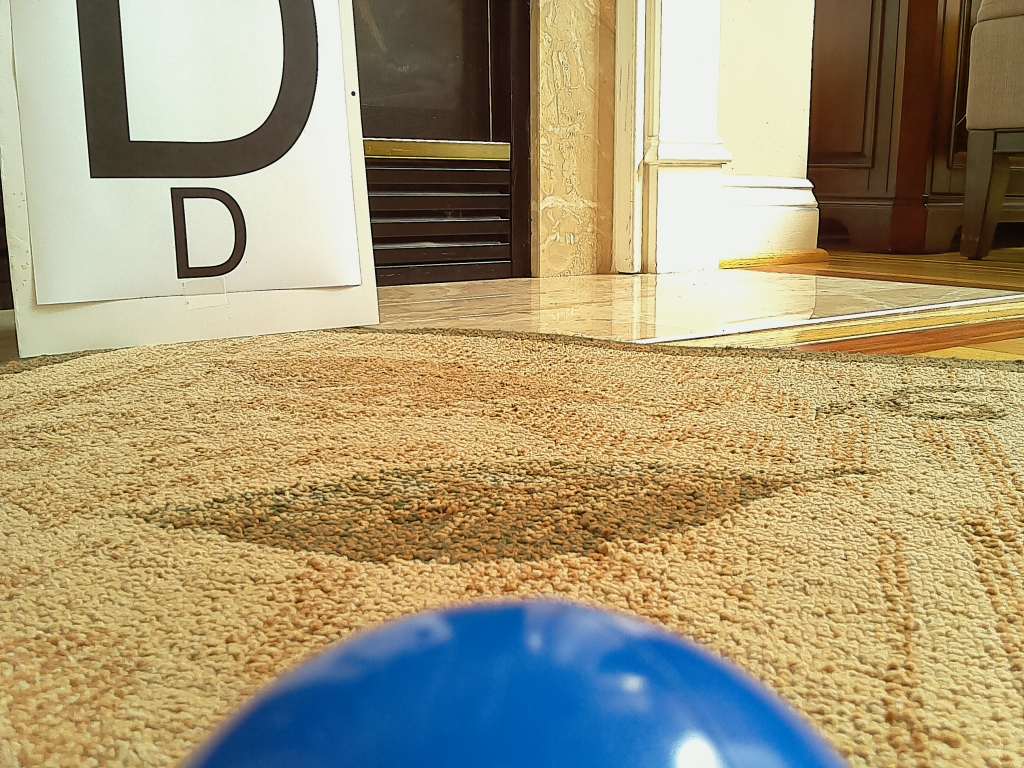letter: (177, 187, 246, 278)
